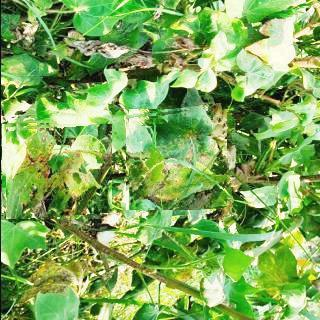blight: (125, 106, 229, 210), (5, 119, 106, 219)
